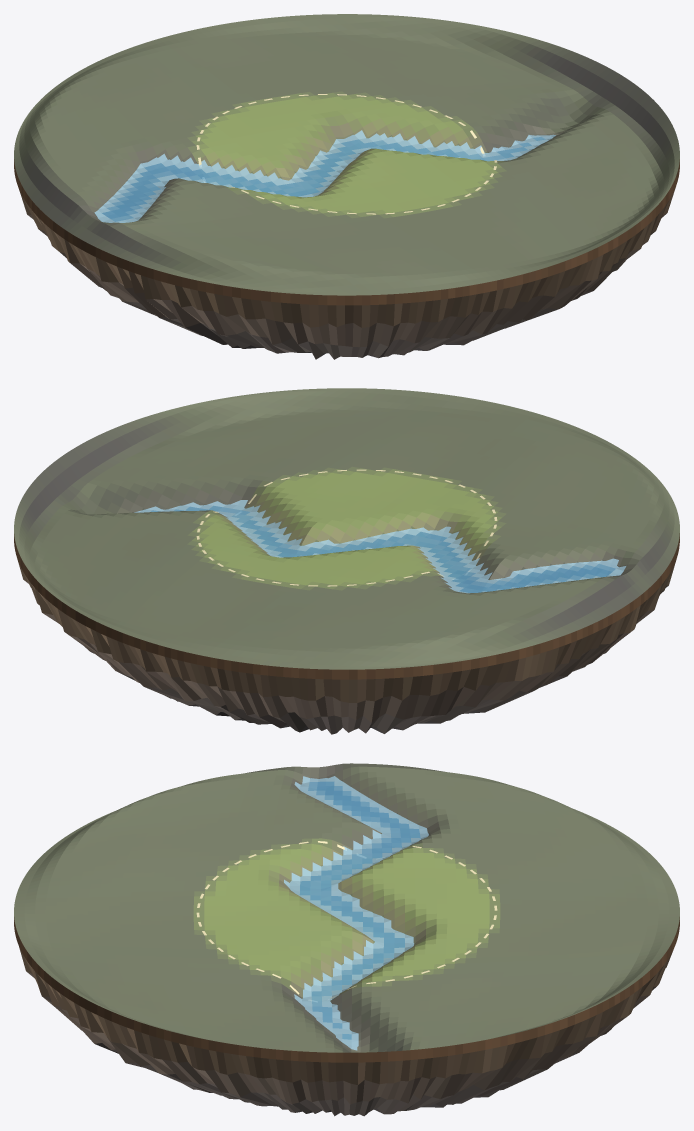
The model's file is winding_river.glb.
3 views of the same model, one above another, from view 1: azimuth 30°, elevation 25°; view 2: azimuth 150°, elevation 25°; view 3: azimuth 270°, elevation 25° (orthographic).
Visible parts, largest first — view 1: TER_Surface, TER_Rock, TER_Water, TER_UnlockBorder; view 2: TER_Surface, TER_Rock, TER_Water, TER_UnlockBorder; view 3: TER_Surface, TER_Rock, TER_Water, TER_UnlockBorder.
Boxes of the visible parts, <box> form: TER_Surface: <box>14,14,679,295</box>; TER_Rock: <box>14,159,679,359</box>; TER_Water: <box>94,130,555,222</box>; TER_UnlockBorder: <box>196,94,497,214</box>; TER_Surface: <box>14,388,679,669</box>; TER_Rock: <box>14,533,679,734</box>; TER_Water: <box>134,500,626,593</box>; TER_UnlockBorder: <box>196,469,497,586</box>; TER_Surface: <box>14,763,679,1052</box>; TER_Rock: <box>14,917,679,1116</box>; TER_Water: <box>284,776,428,1050</box>; TER_UnlockBorder: <box>196,841,497,1001</box>.
Size of the model in its own units: 15.2 by 4.75 by 15.2.
